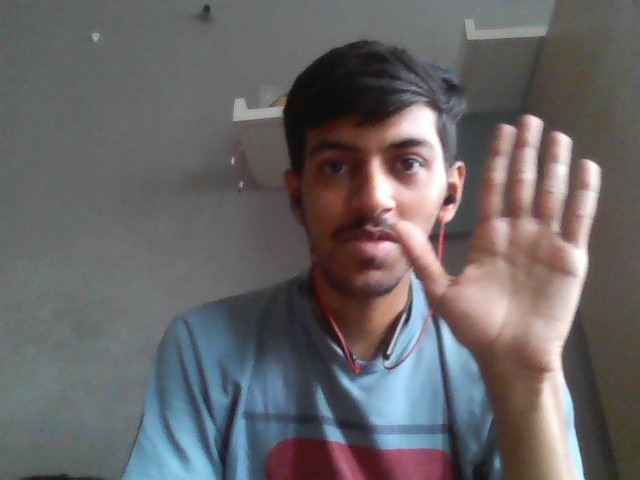Hello: (387, 107, 606, 369)
